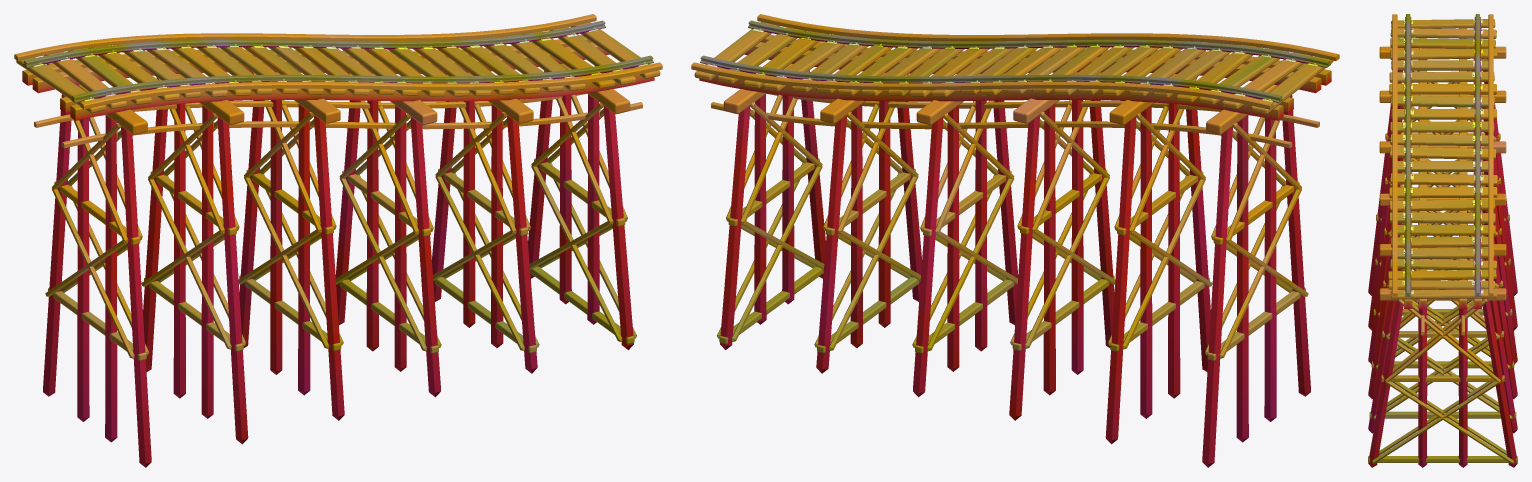
File: Track_Ramp_Down_18m_Steep.fbx
The picture shows the model from 3 angles, left to right: view 1: azimuth 30°, elevation 25°; view 2: azimuth 150°, elevation 25°; view 3: azimuth 270°, elevation 25°; orthographic projection. The views are drawn at different scales.
Parts seen in each view (by area): view 1: Track_Ramp_Down_18m_Steep; view 2: Track_Ramp_Down_18m_Steep; view 3: Track_Ramp_Down_18m_Steep.
Boxes of the visible parts, x1=… form: Track_Ramp_Down_18m_Steep: x1=14, y1=14, x2=662, y2=467; Track_Ramp_Down_18m_Steep: x1=691, y1=14, x2=1339, y2=467; Track_Ramp_Down_18m_Steep: x1=1368, y1=14, x2=1517, y2=467.
Bounding box in the file's own units: 18 × 10.85 × 5.55.
